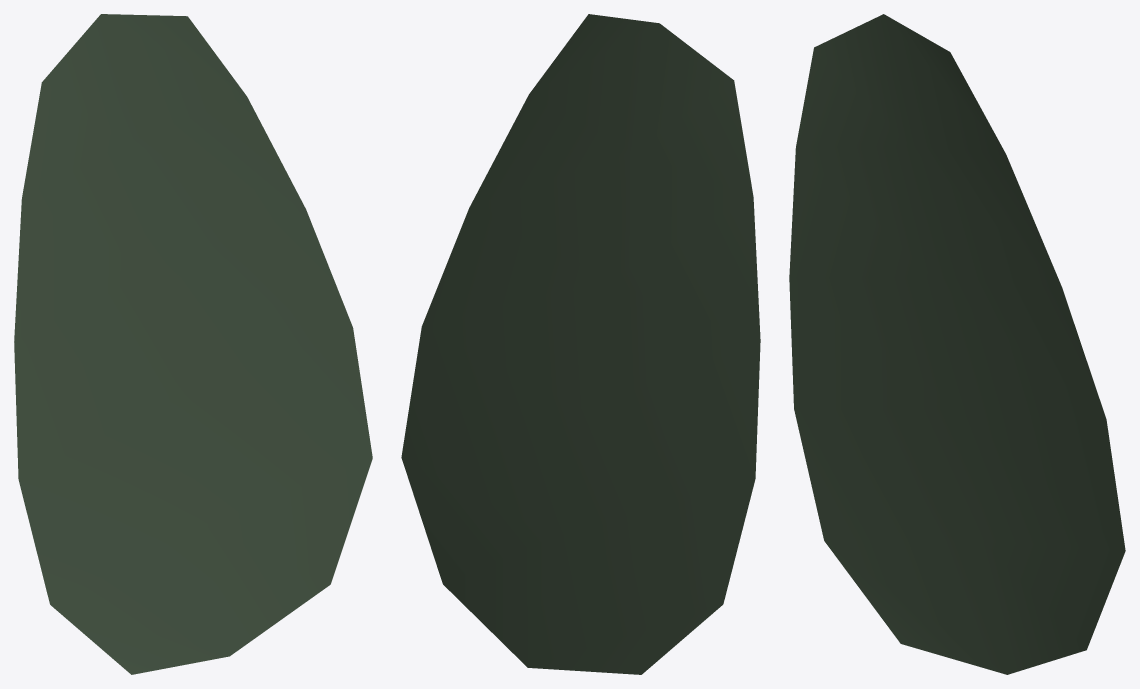
Rendered from duck_feather_flight_tertiary_050.obj.
The picture shows the model from 3 angles, left to right: view 1: azimuth 30°, elevation 25°; view 2: azimuth 150°, elevation 25°; view 3: azimuth 330°, elevation 25°; orthographic projection. The views are drawn at different scales.
Parts seen in each view (by area): view 1: feather_flight_tertiary_050; view 2: feather_flight_tertiary_050; view 3: feather_flight_tertiary_050.
Boxes of the visible parts, left/top/right/bottom form: feather_flight_tertiary_050: left=14, top=14, right=372, bottom=674; feather_flight_tertiary_050: left=401, top=14, right=760, bottom=674; feather_flight_tertiary_050: left=789, top=14, right=1125, bottom=674.
Bounding box in the file's own units: 0.0168 × 0.0301 × 0.000762.
